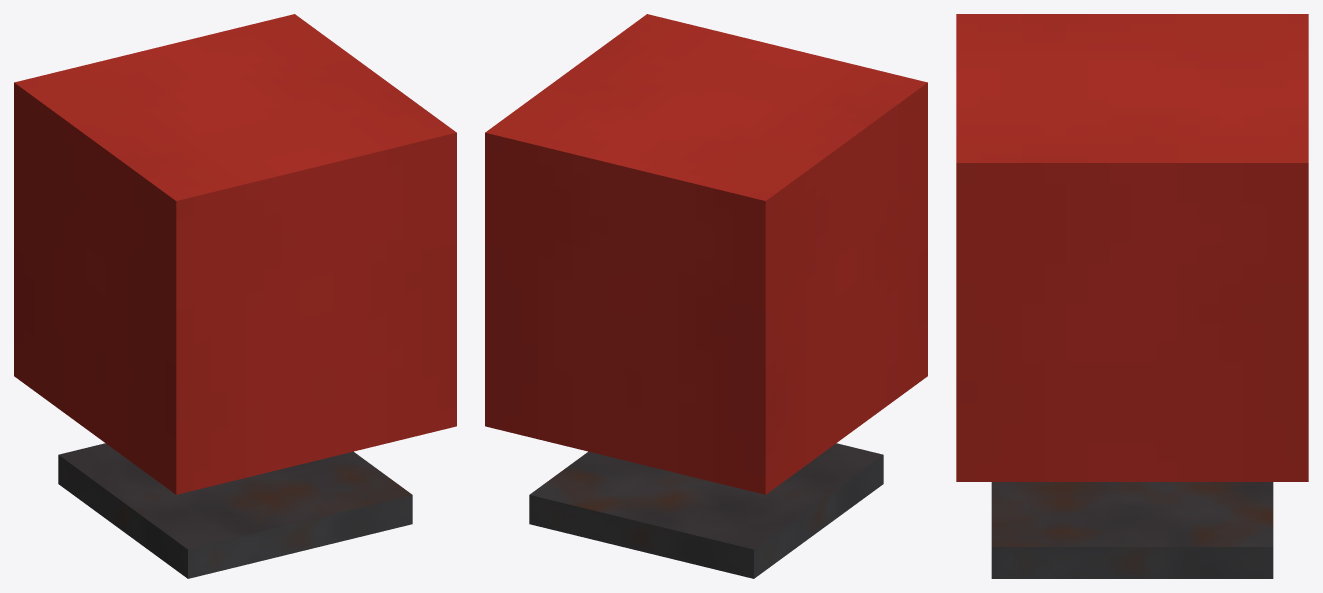
The model's file is demo_cube_red.glb.
3 views of the same model, side by side, from view 1: azimuth 30°, elevation 25°; view 2: azimuth 150°, elevation 25°; view 3: azimuth 270°, elevation 25° (orthographic). The views are drawn at different scales.
Visible parts, largest first — view 1: demo_cube_red_cube, demo_cube_red; view 2: demo_cube_red_cube, demo_cube_red; view 3: demo_cube_red_cube, demo_cube_red.
Part boxes in pixels (bbox=[...]): demo_cube_red_cube: bbox=[14, 14, 456, 494]; demo_cube_red: bbox=[58, 443, 412, 578]; demo_cube_red_cube: bbox=[485, 14, 927, 494]; demo_cube_red: bbox=[529, 443, 883, 578]; demo_cube_red_cube: bbox=[956, 14, 1308, 481]; demo_cube_red: bbox=[991, 482, 1273, 578].
Bounding box in the file's own units: 1 × 1.35 × 1.
2 materials, 2 textured.
